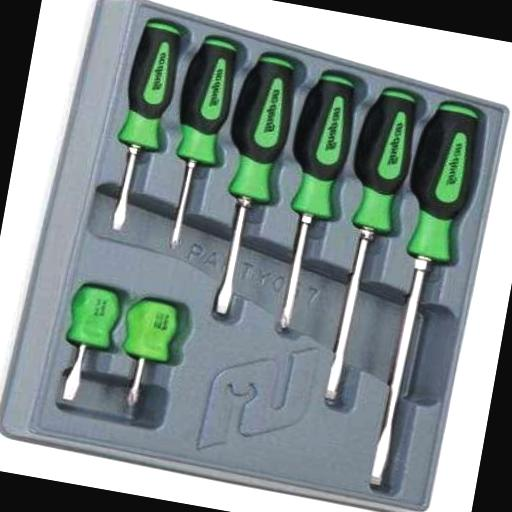screwdriver: (358, 97, 492, 493), (312, 83, 420, 404), (199, 50, 301, 318), (264, 68, 362, 334), (152, 32, 242, 252), (98, 15, 188, 235), (53, 278, 127, 406), (114, 295, 182, 408)
